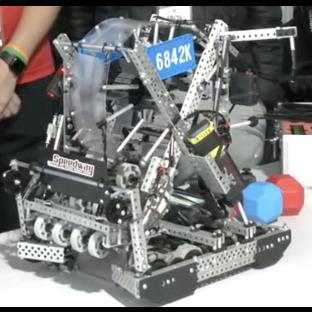Robot: (5, 18, 296, 302)
V5_BLUE: (244, 180, 282, 220)
V5_RED: (281, 171, 301, 214)
